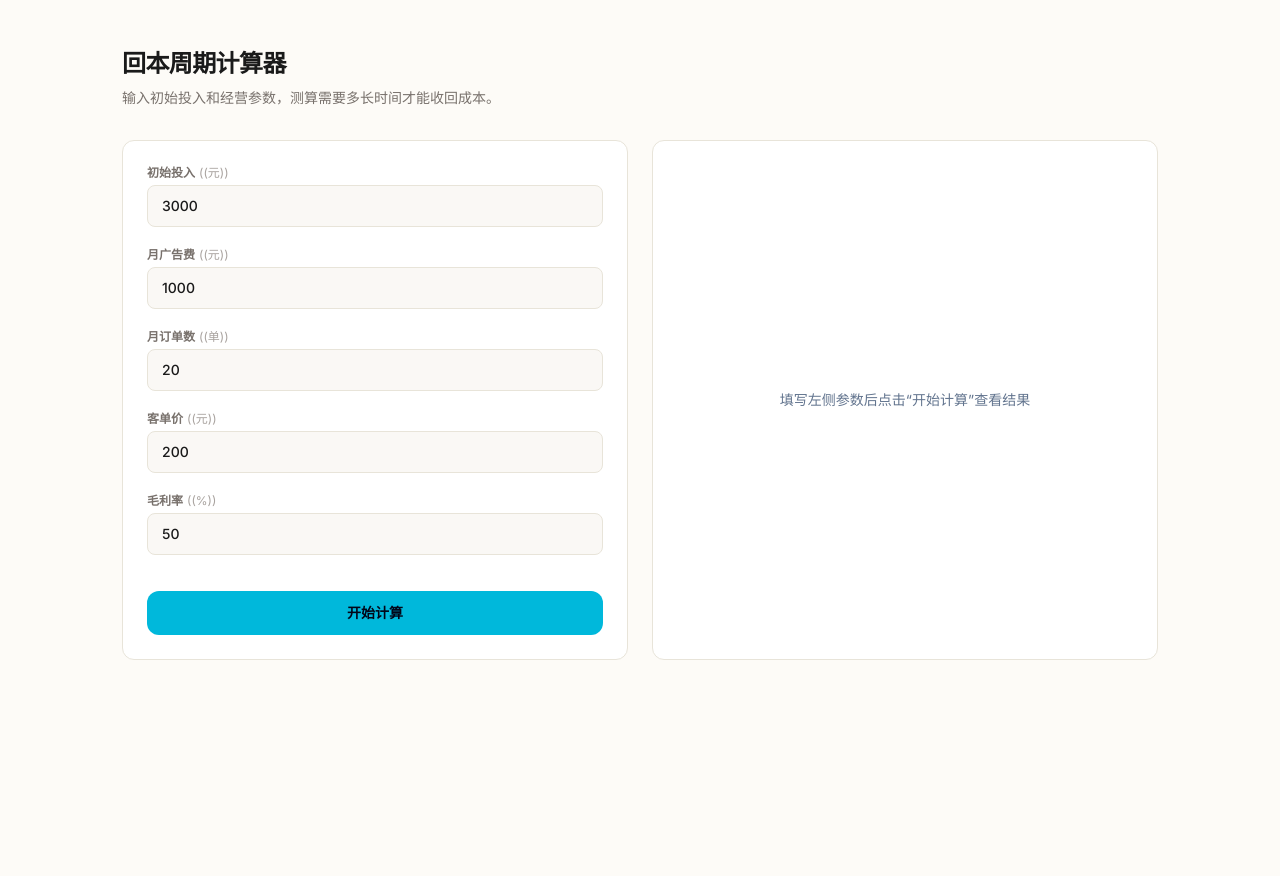
PaybackCalculatorPage › shows "无法回本" when monthly net profit is not positive
Replace the text in the number field labelled "月订单数((单))" with "0" at (375, 370), box [147, 349, 603, 391]
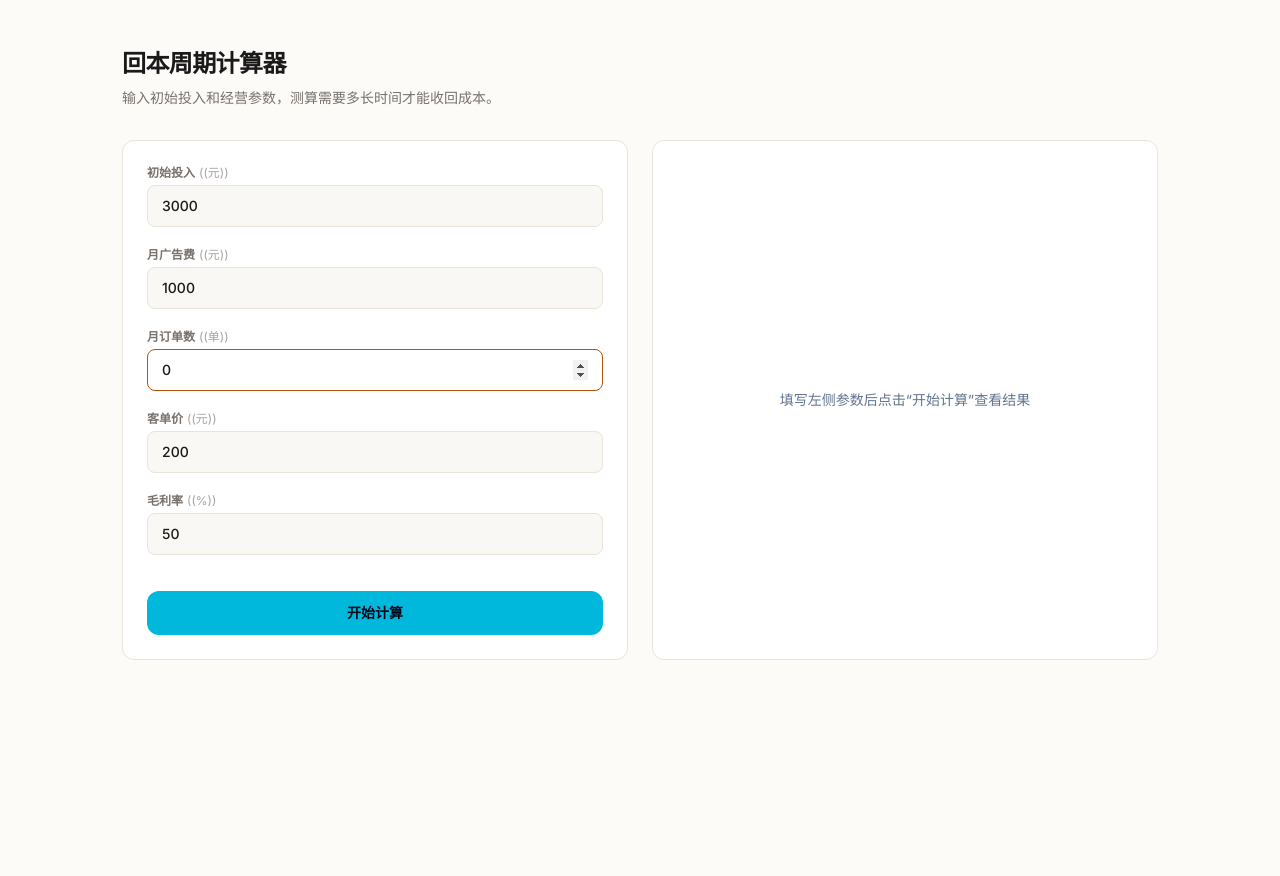
Click the button "开始计算".
click(375, 613)  # box [147, 591, 603, 635]
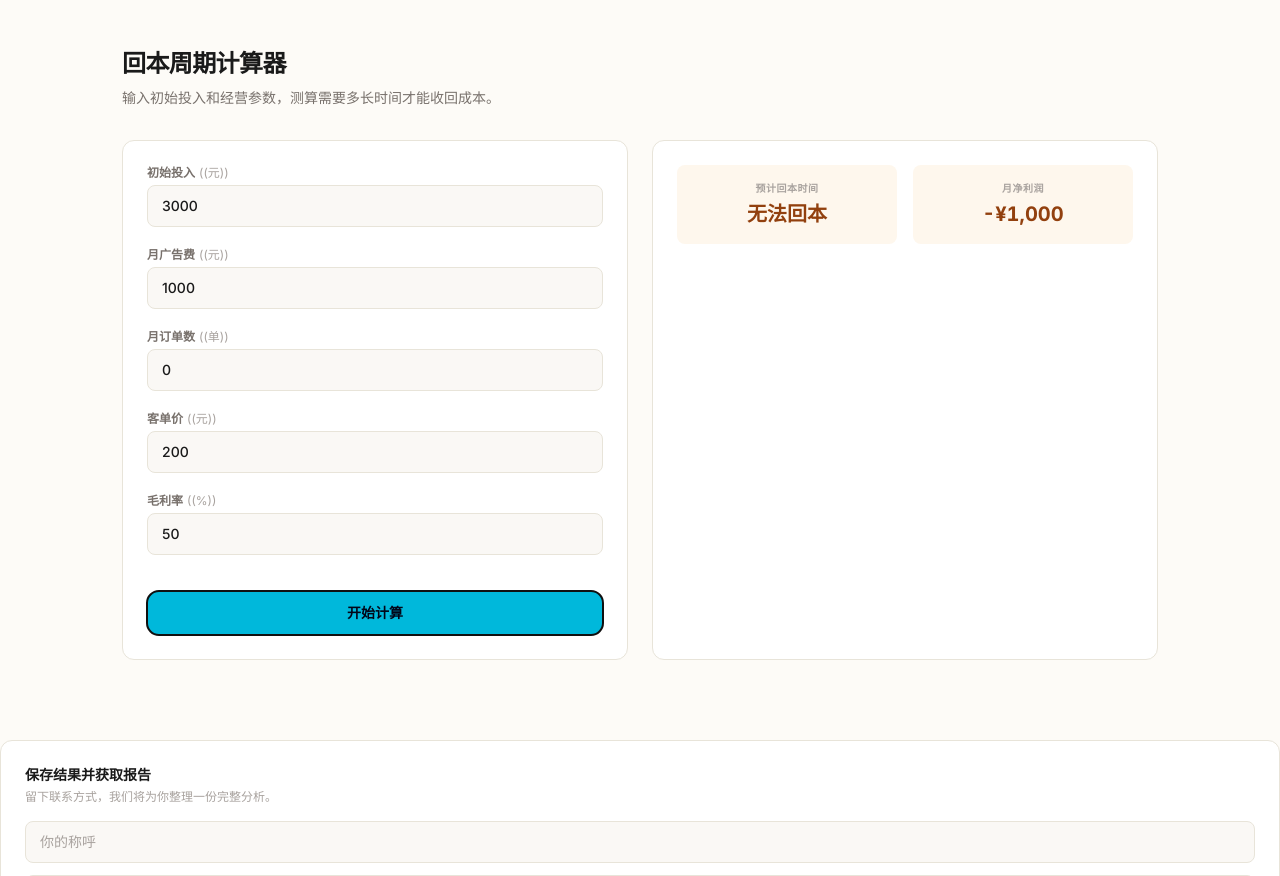
Check: the text "无法回本" is shown, box [747, 202, 827, 226]
